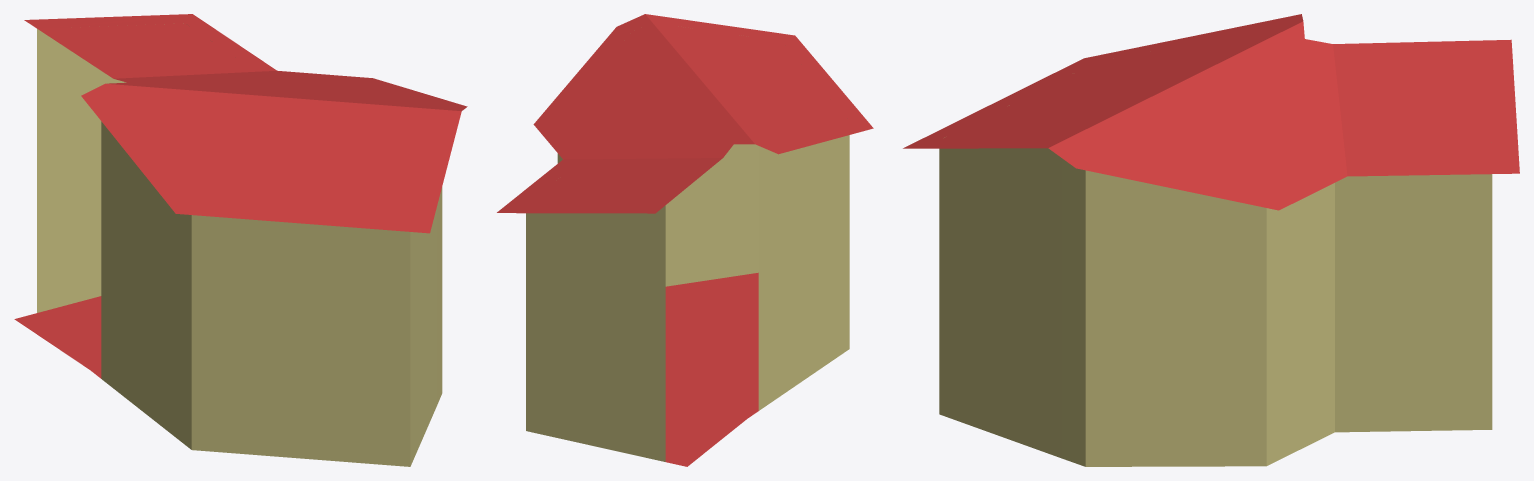
3 renders of one model, left to right at view 1: azimuth 30°, elevation 25°; view 2: azimuth 150°, elevation 25°; view 3: azimuth 270°, elevation 25°, orthographic. The views are drawn at different scales.
Size of the model in its own units: 6.84 by 11.67 by 6.67.
